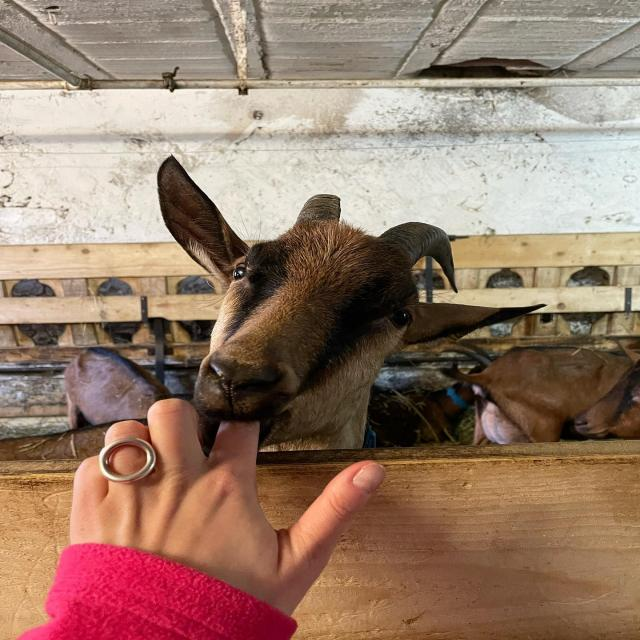goat: (126, 152, 546, 460)
